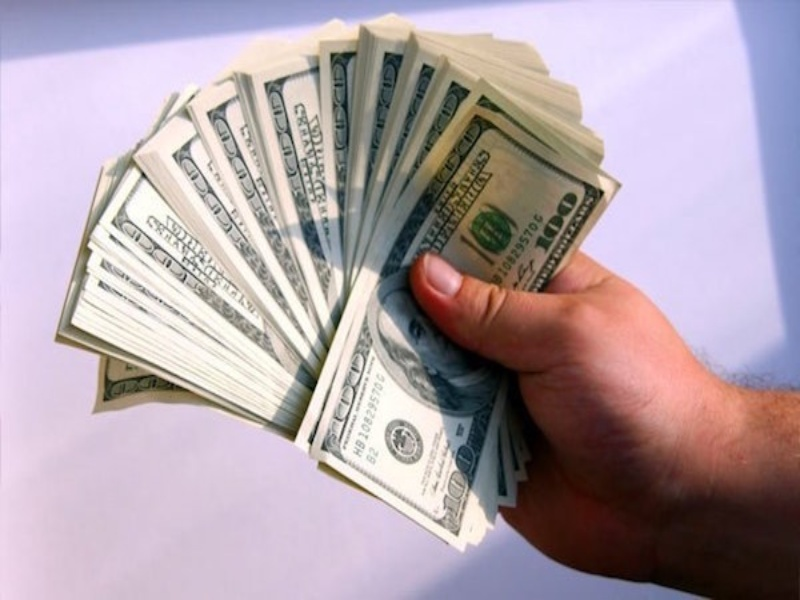cash: (52, 11, 622, 552)
